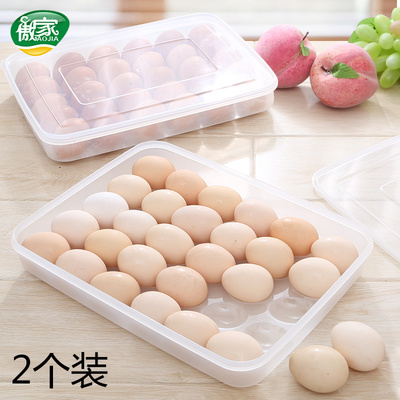egg: (22, 156, 359, 358), (20, 22, 270, 147), (289, 321, 387, 394)
